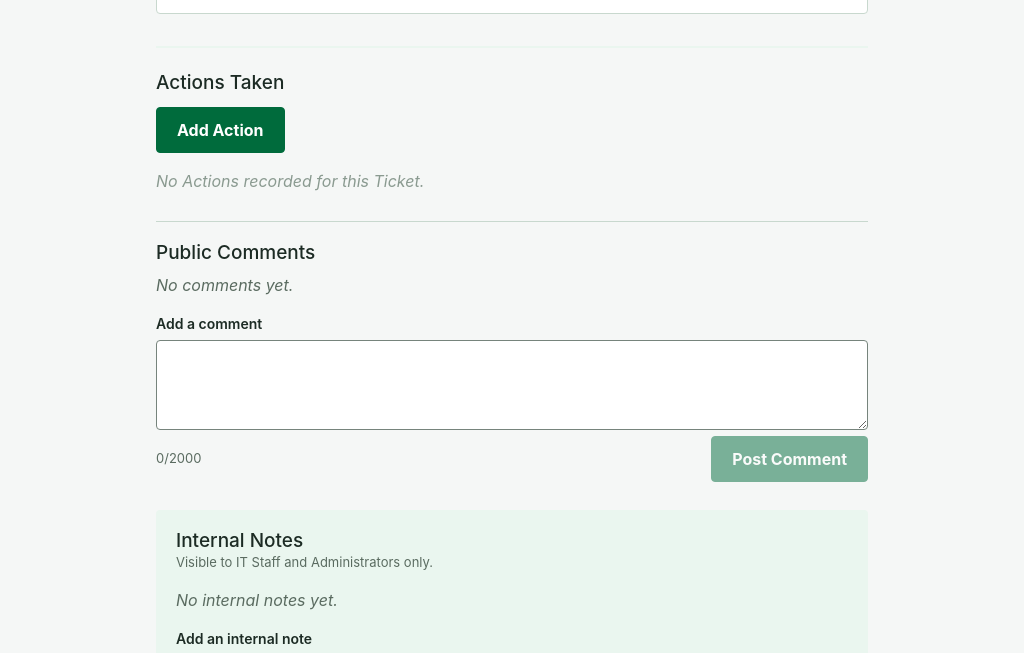
Test: UI-STAFF-01 — Staff Ticket Detail (AC-11–14) › keeps a successful comment after refresh failure without asking for a retry
(page scrolled)
In the text box labelled "Add a comment": (512, 385) [156,340,868,430], type "Posted successfully."
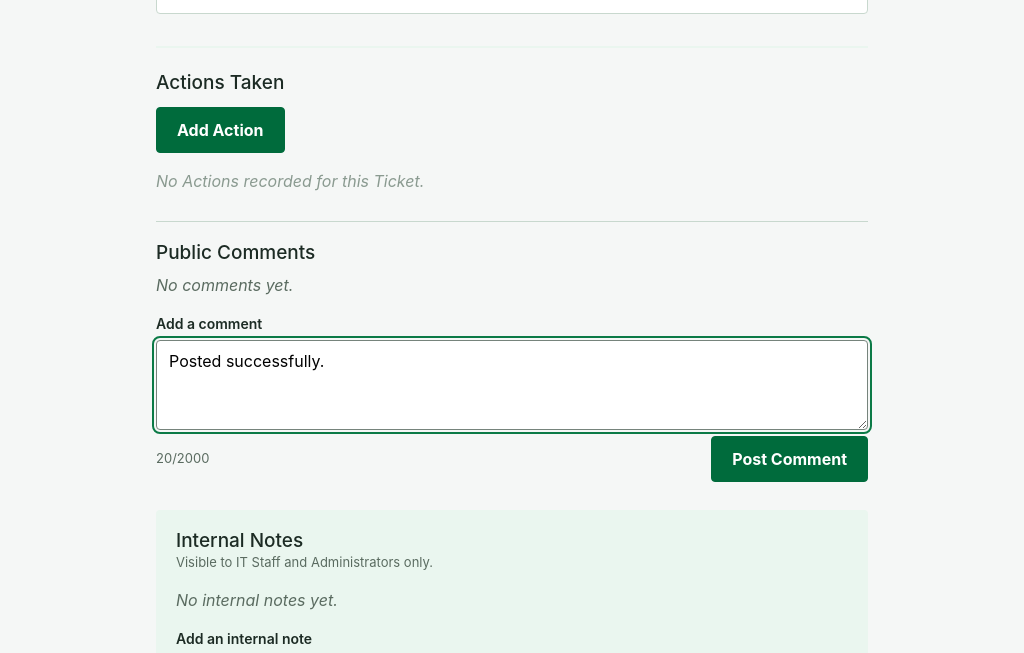
Click the button "Post Comment": (790, 459) [711,436,868,482]
(page scrolled)
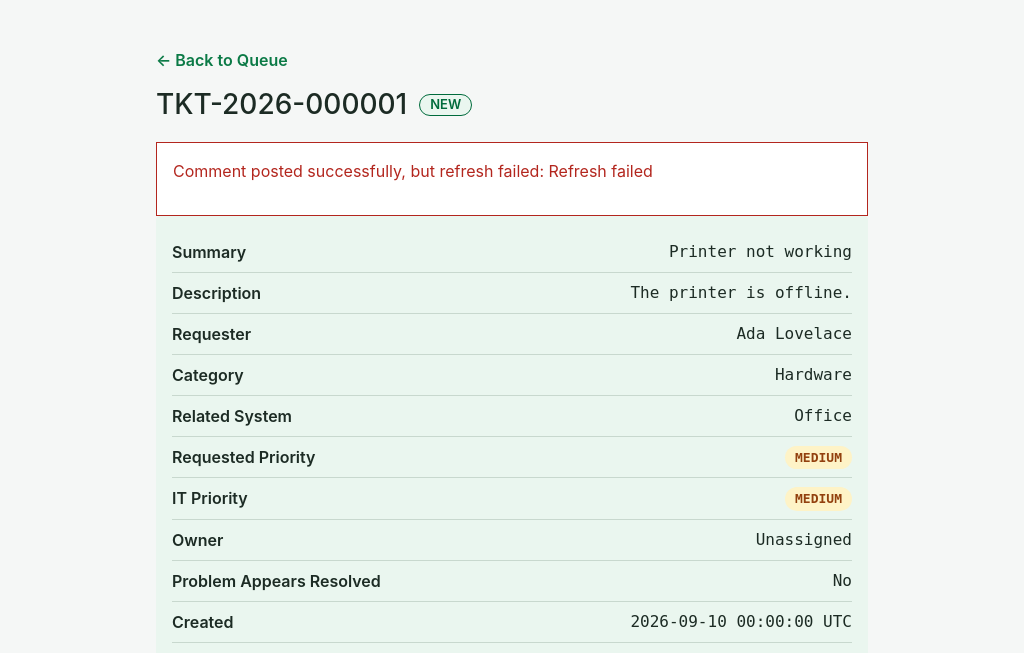
Expected: the message shows "Comment posted", [173,161,653,181]
